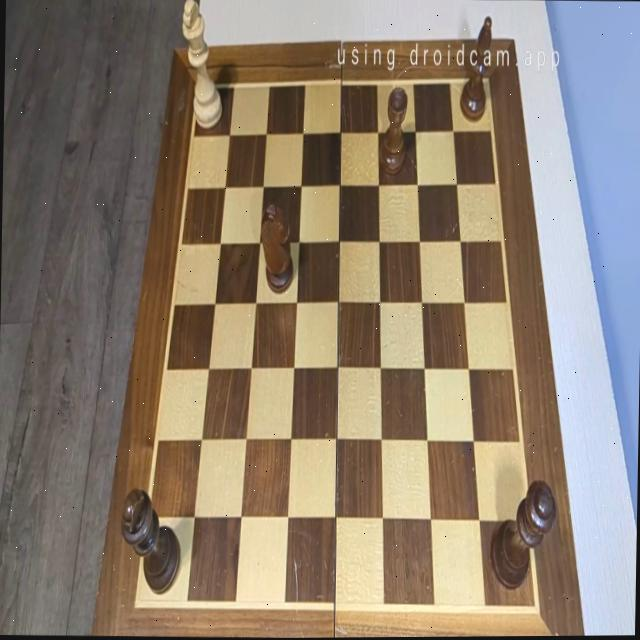black_bishop: (458, 15, 492, 120)
black_king: (119, 486, 181, 595)
black_knight: (258, 201, 293, 292)
black_queen: (488, 478, 556, 592)
black_rook: (378, 86, 409, 176)
white_king: (180, 0, 224, 128)
